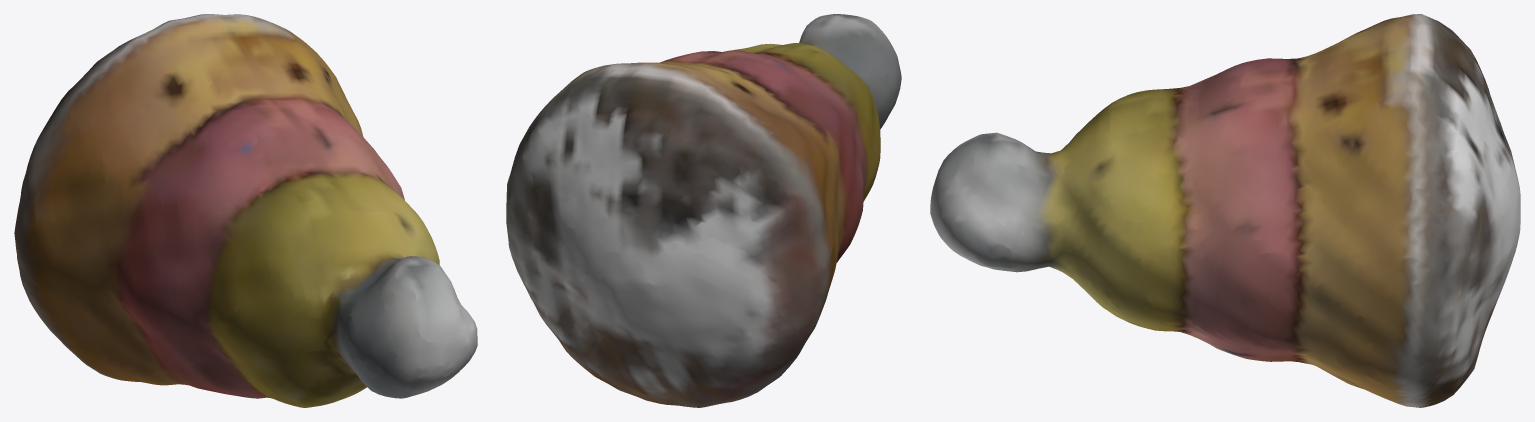
The model's file is chicken.glb.
The picture shows the model from 3 angles, left to right: view 1: azimuth 30°, elevation 25°; view 2: azimuth 150°, elevation 25°; view 3: azimuth 270°, elevation 25°; orthographic projection. The views are drawn at different scales.
Size of the model in its own units: 0.6749 by 0.6779 by 1.
